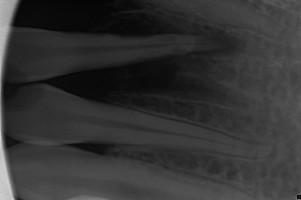Dental Caries: (108, 13, 245, 99)
